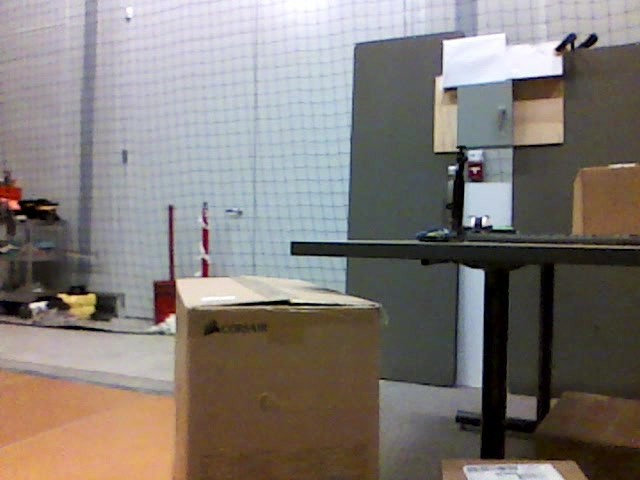box: (173, 279, 379, 480), (535, 392, 639, 480), (573, 164, 640, 234), (441, 459, 584, 480)
